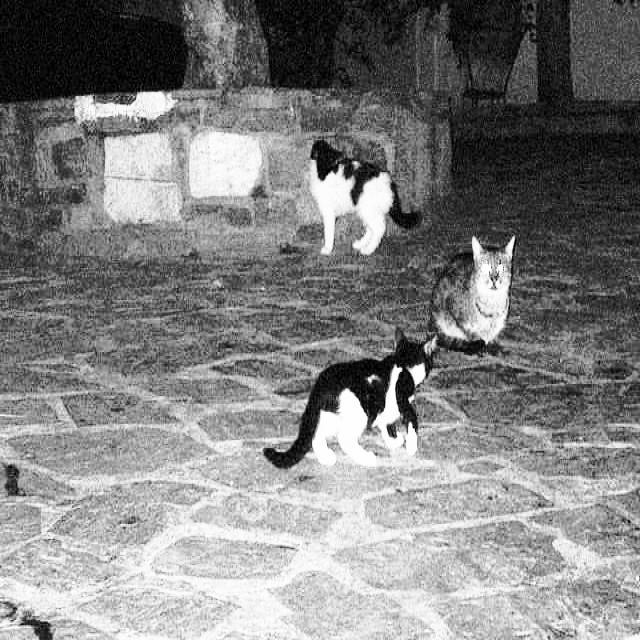Cat: (268, 329, 436, 477), (302, 139, 422, 254), (430, 228, 517, 353)
